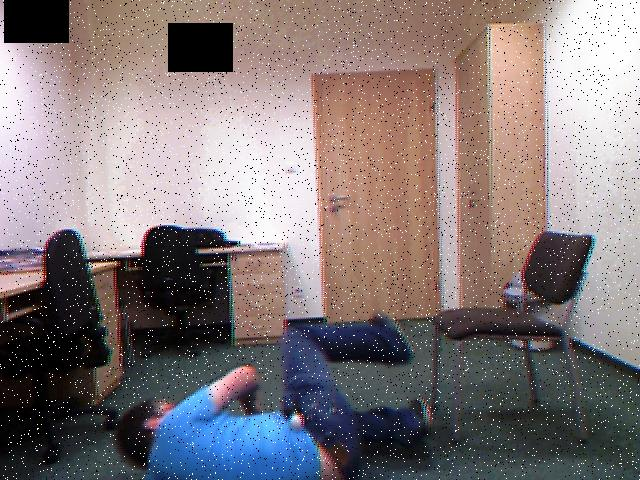fall: (118, 315, 430, 479)
